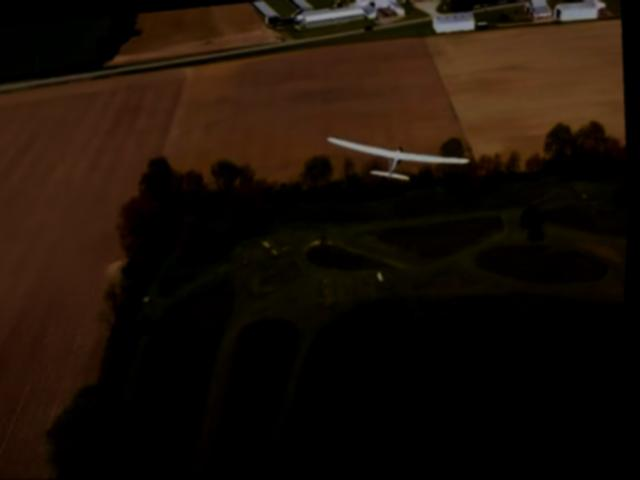iha: (329, 120, 472, 191)
